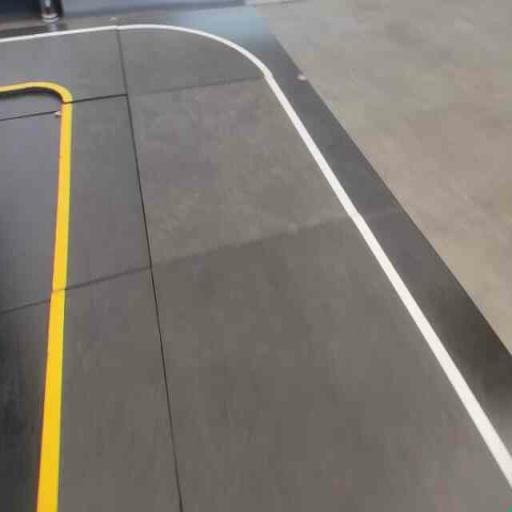straight: (23, 156, 493, 511)
